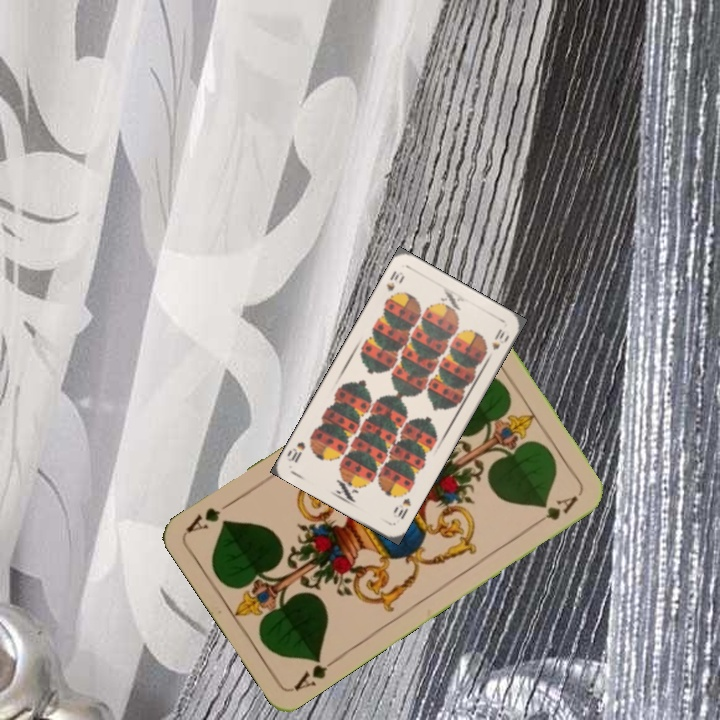GA: (289, 652, 342, 694)
S10: (382, 266, 407, 295), (393, 494, 414, 522)
